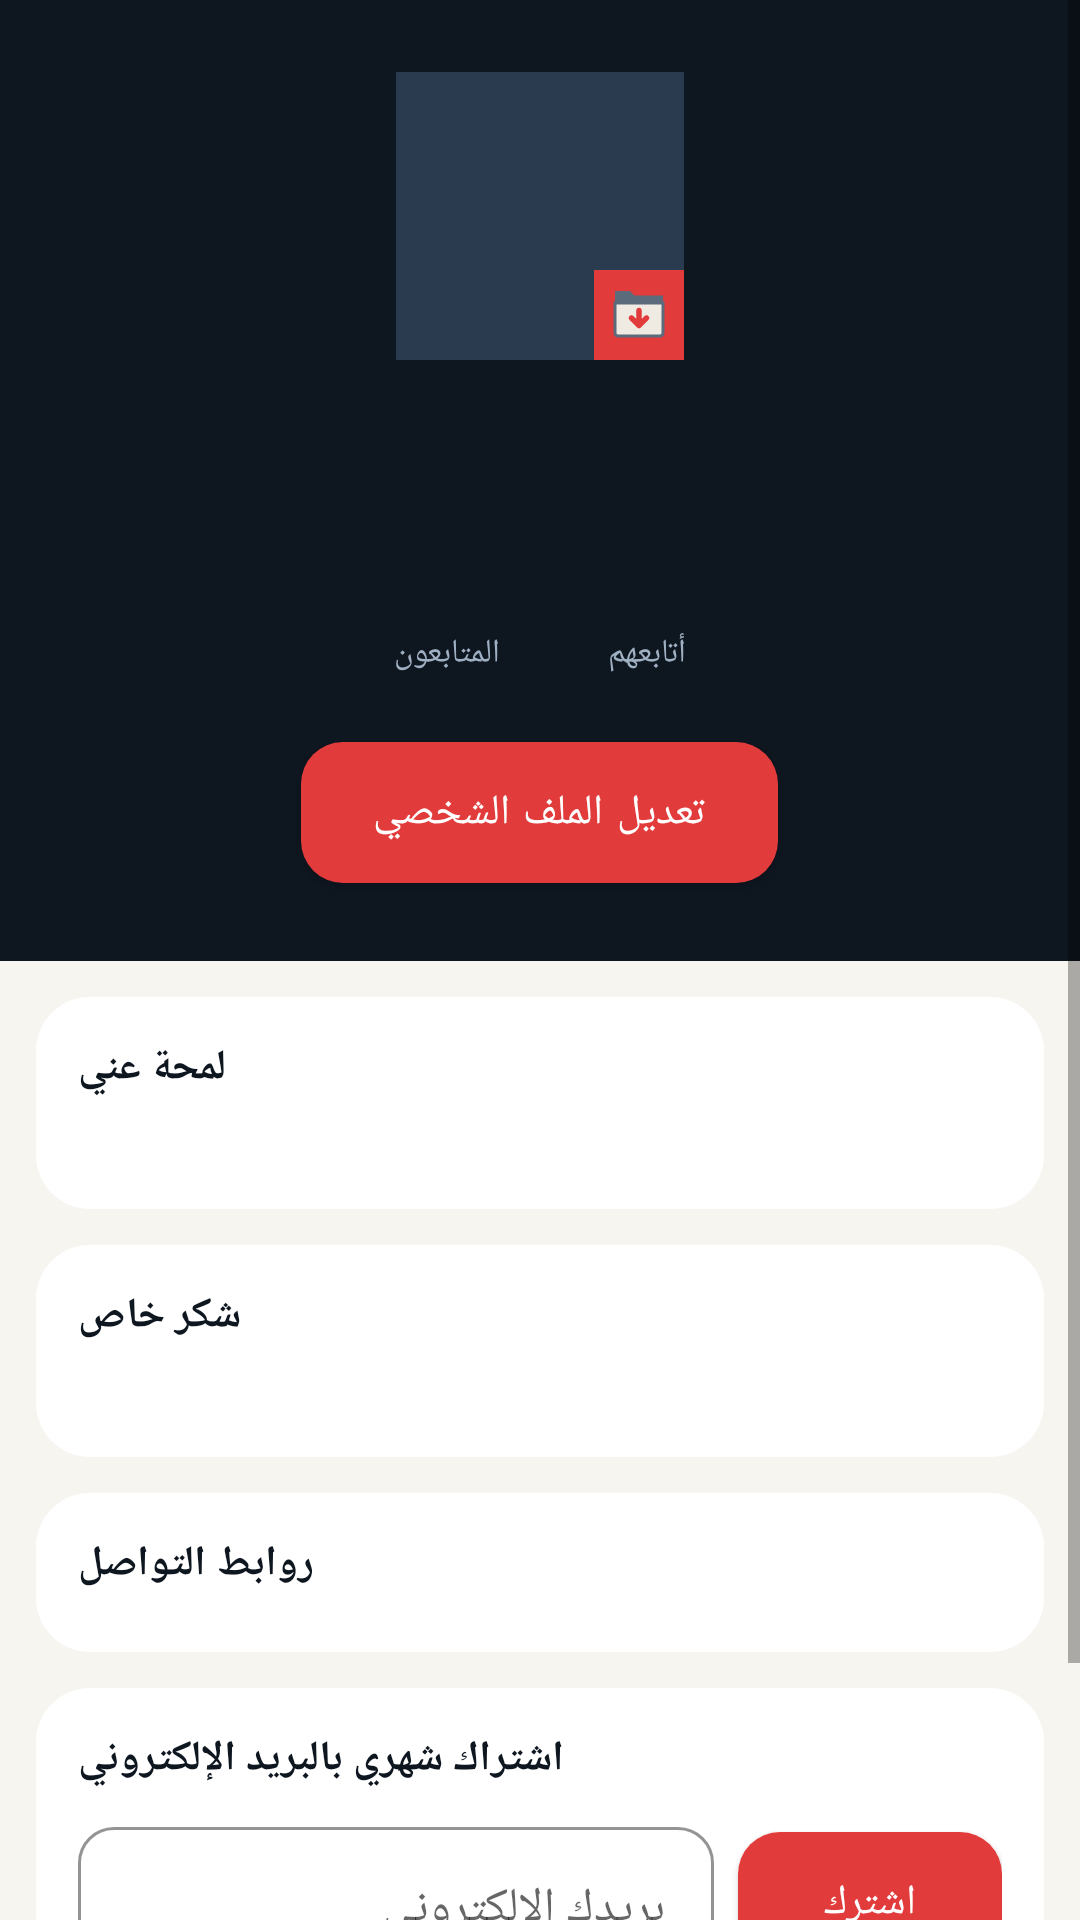

Named icons in this screenshot (1080 × 1920) and their centers, point (x, y):
تحميل الأيقونة: point (639, 315)
